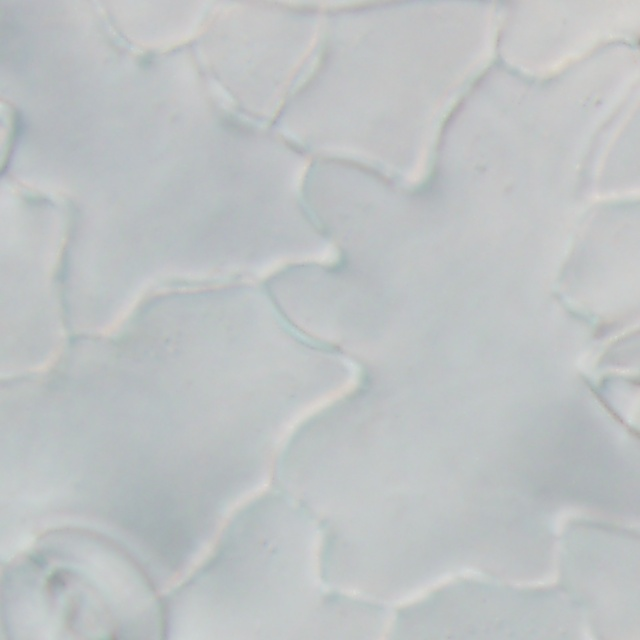center: (590, 376, 638, 384), (588, 144, 640, 151), (310, 4, 355, 7), (320, 4, 361, 7), (0, 132, 25, 135)
stomata-huw1: (0, 528, 165, 639), (591, 88, 639, 207), (589, 326, 639, 433), (1, 97, 16, 170), (283, 1, 382, 10), (295, 1, 386, 10)
